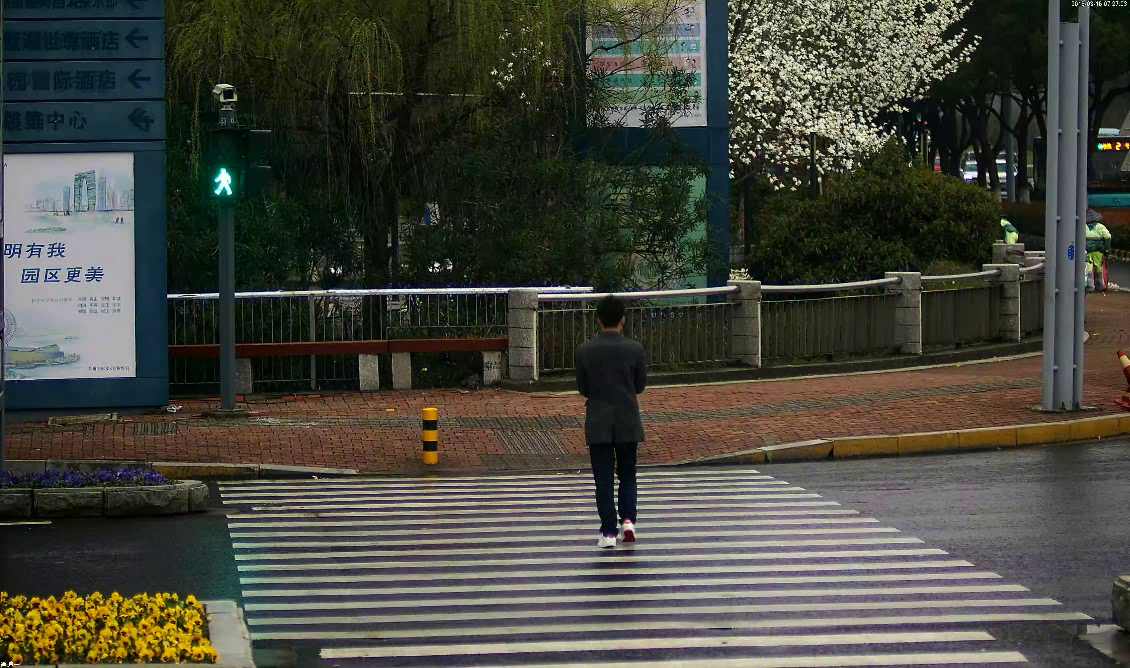person: (571, 293, 655, 557), (1078, 201, 1119, 299)
